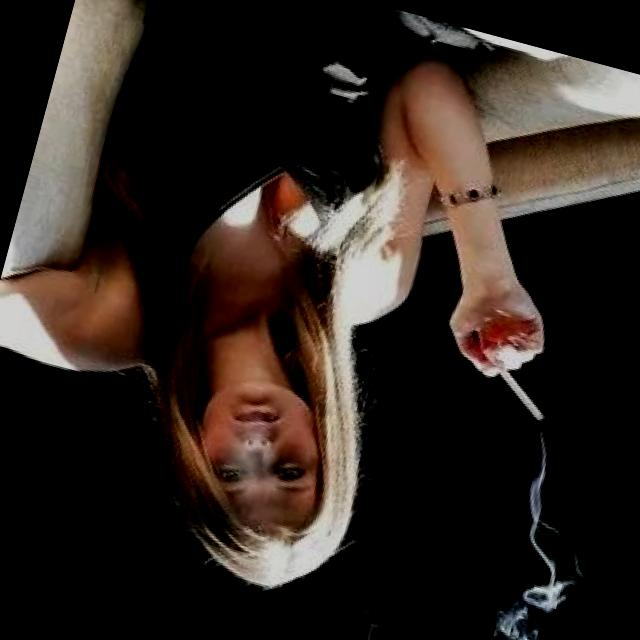smoke: (476, 356, 562, 432)
